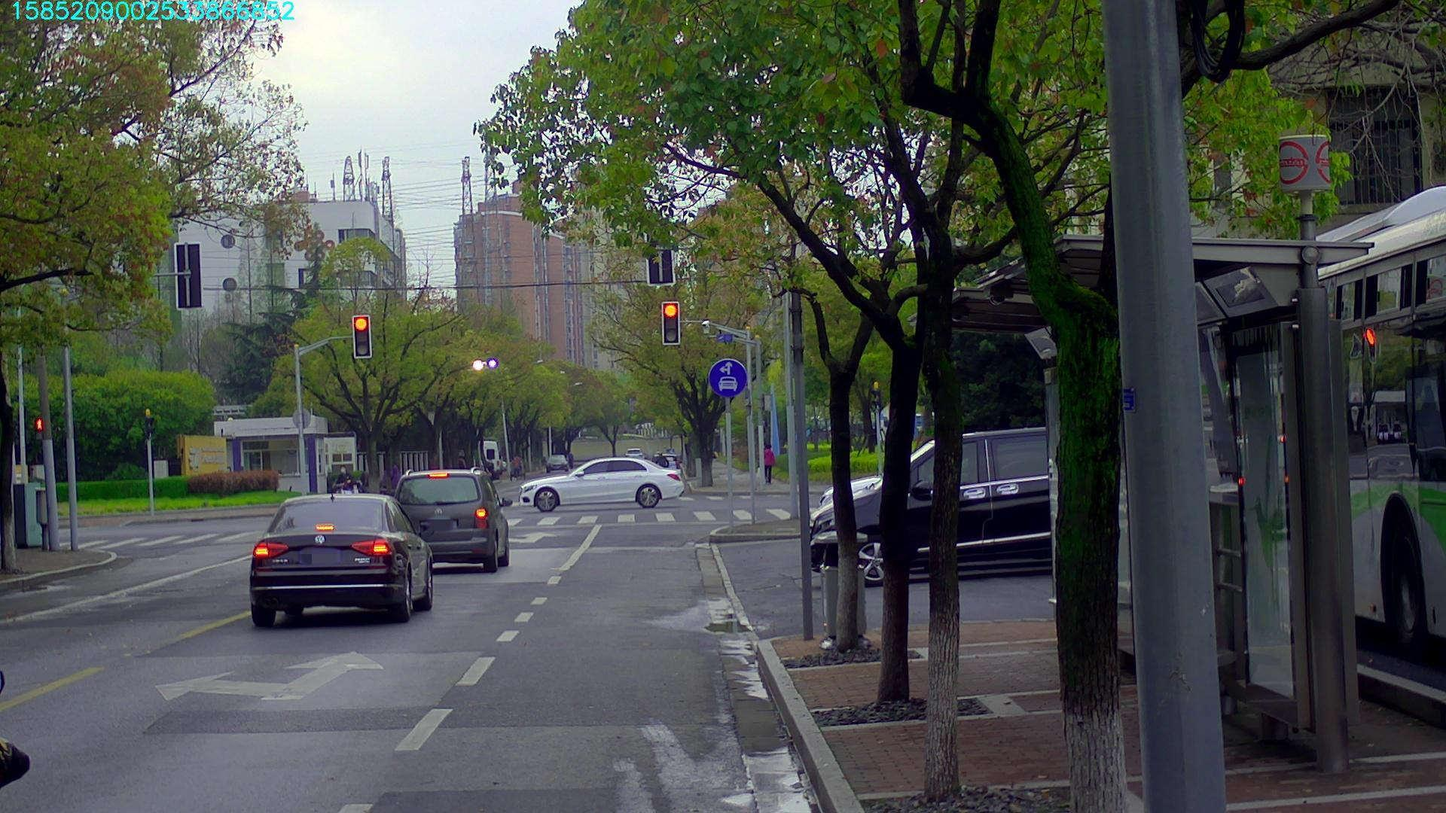red: (352, 315, 371, 358), (662, 302, 679, 343)
